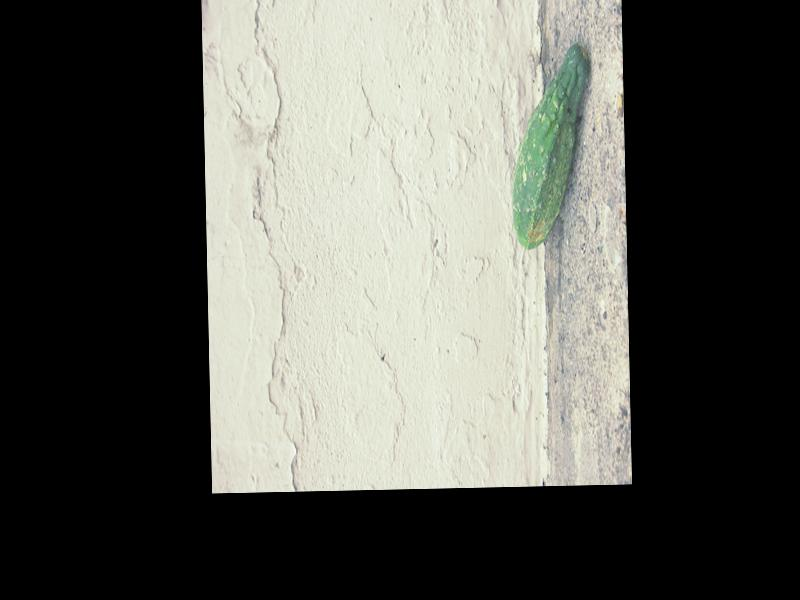Cucumber: (508, 46, 591, 249)
